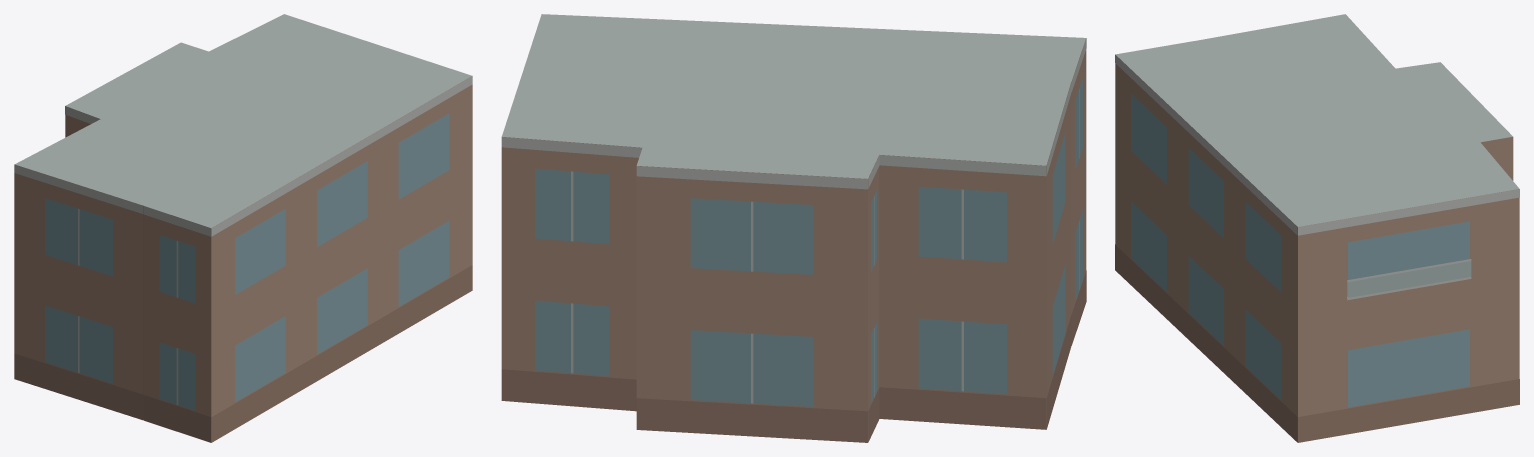
File: survey-upis-32752152.glb
The picture shows the model from 3 angles, left to right: view 1: azimuth 30°, elevation 25°; view 2: azimuth 150°, elevation 25°; view 3: azimuth 270°, elevation 25°; orthographic projection. The views are drawn at different scales.
Visible parts, largest first — view 1: survey-upis-32752152.tmp; view 2: survey-upis-32752152.tmp; view 3: survey-upis-32752152.tmp.
Part boxes in pixels (left/top/right/bottom): survey-upis-32752152.tmp: left=14, top=14, right=472, bottom=442; survey-upis-32752152.tmp: left=501, top=14, right=1086, bottom=442; survey-upis-32752152.tmp: left=1115, top=14, right=1519, bottom=442.
Bounding box in the file's own units: 12.93 × 6.1 × 10.38.
